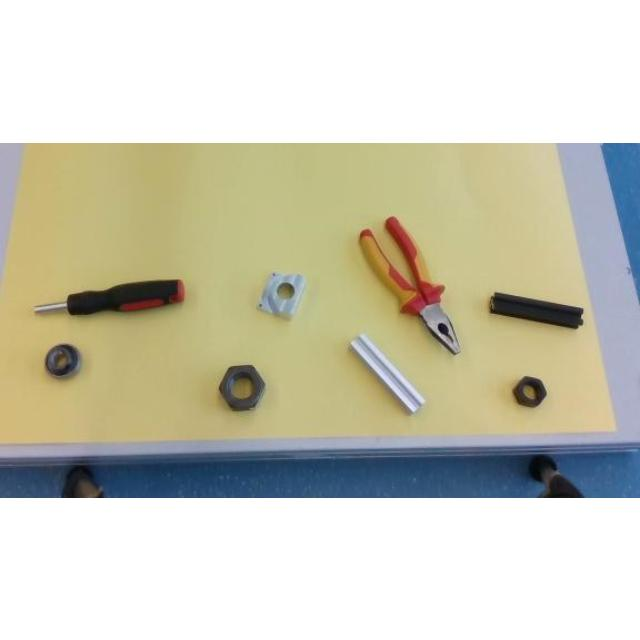Bearing2: (44, 342, 82, 378)
F20_20_B: (489, 290, 583, 328)
F20_20_G: (349, 332, 425, 413)
M20: (512, 374, 546, 406)
M30: (219, 364, 265, 410)
